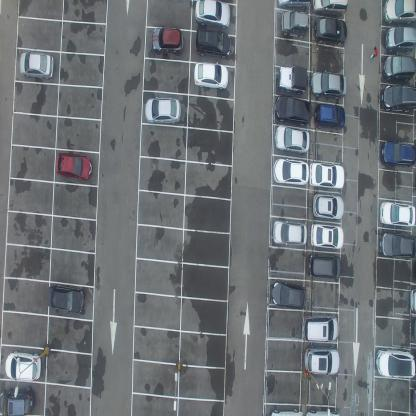car: (375, 346, 415, 380), (4, 351, 42, 382), (46, 285, 85, 315), (52, 153, 90, 183), (275, 96, 313, 126), (378, 229, 416, 259), (271, 279, 307, 310), (195, 28, 232, 58), (18, 51, 54, 81), (303, 313, 339, 343), (304, 346, 340, 376), (380, 83, 416, 113), (144, 97, 181, 126), (277, 62, 308, 96), (0, 385, 35, 415), (306, 251, 342, 280), (311, 70, 347, 99), (273, 157, 309, 186), (380, 139, 416, 168), (310, 221, 345, 250), (314, 16, 347, 46), (272, 220, 307, 248), (275, 126, 310, 154), (194, 63, 230, 90), (310, 161, 346, 188), (379, 199, 415, 226), (194, 0, 231, 26), (150, 26, 184, 54), (314, 101, 345, 131), (382, 54, 416, 81), (312, 193, 345, 220), (385, 26, 416, 54), (382, 0, 415, 25), (282, 10, 310, 39), (312, 0, 348, 18), (276, 0, 312, 11), (268, 406, 302, 416), (305, 408, 342, 415), (410, 287, 416, 313)
